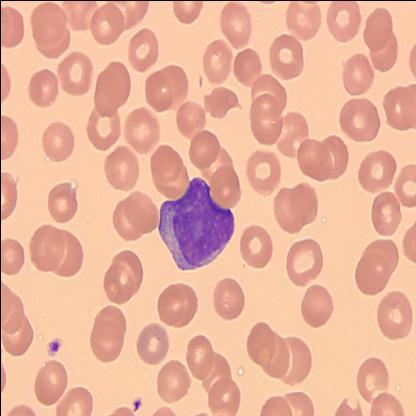Promyelocyte: (156, 176, 235, 272)
